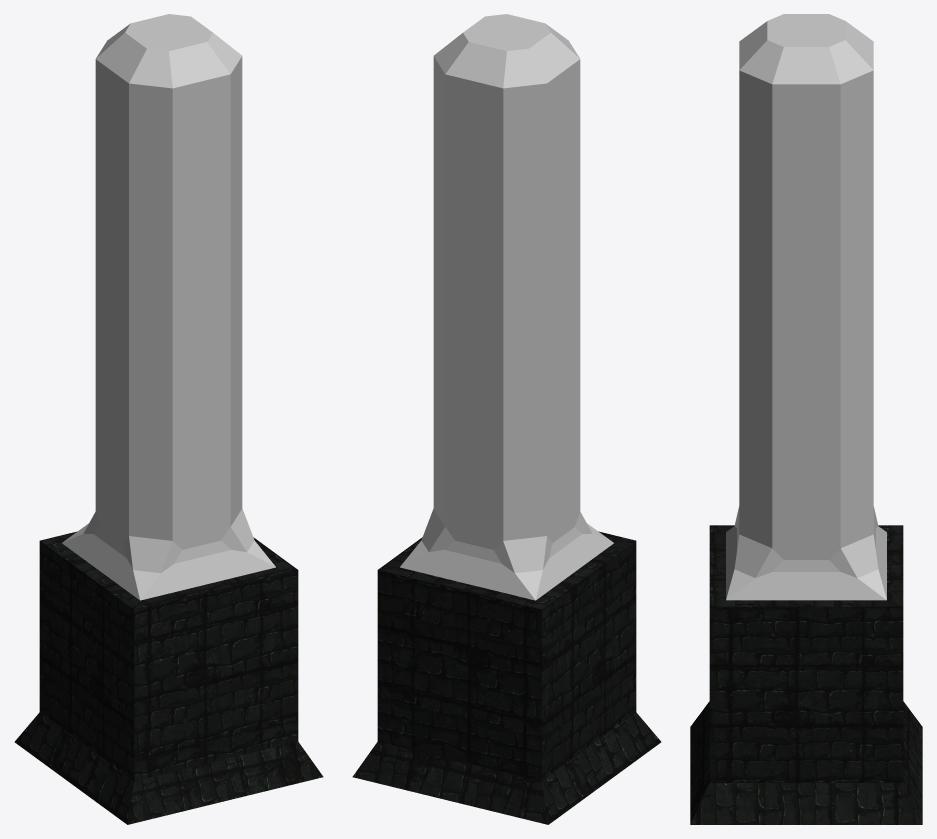
The model's file is Pillar.fbx.
The picture shows the model from 3 angles, left to right: view 1: azimuth 30°, elevation 25°; view 2: azimuth 150°, elevation 25°; view 3: azimuth 270°, elevation 25°; orthographic projection. The views are drawn at different scales.
Visible parts, largest first — view 1: Pillar; view 2: Pillar; view 3: Pillar.
Part boxes in pixels (x1,y1,x2,y2): Pillar: [14, 14, 323, 824]; Pillar: [352, 14, 661, 824]; Pillar: [690, 14, 922, 824].
Size of the model in its own units: 1.2 by 4.24 by 1.2.
